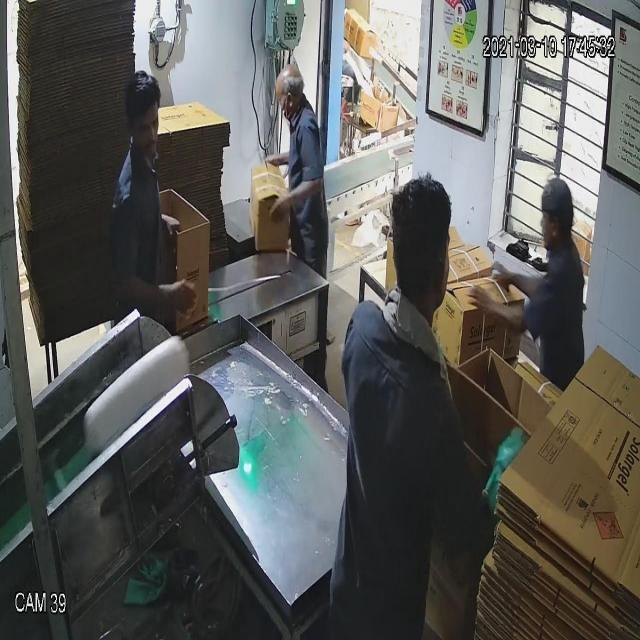No_Gloves: (44, 42, 497, 308)
